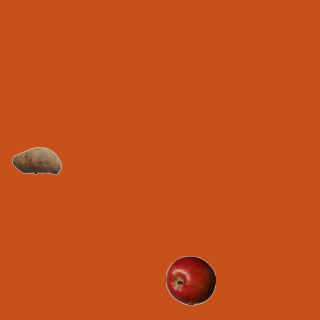Apple Braeburn: (165, 255, 215, 305)
Potato Sweet: (11, 135, 61, 185)
